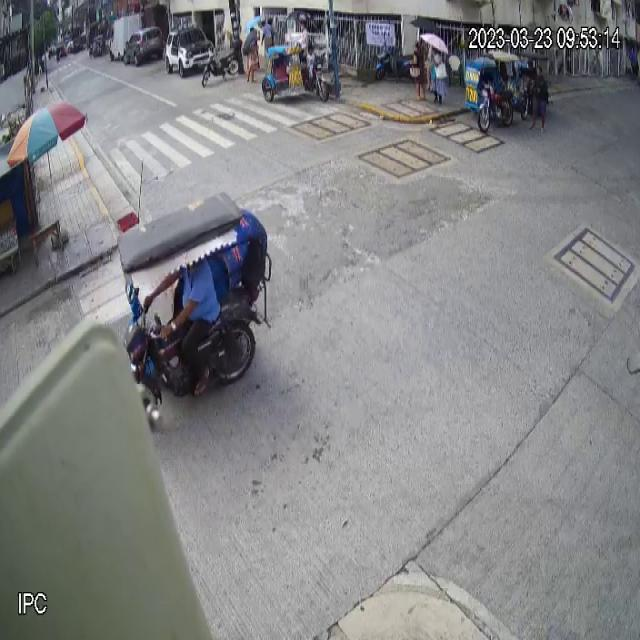Tricycle: (115, 190, 272, 414), (261, 31, 330, 105), (465, 48, 521, 132)
